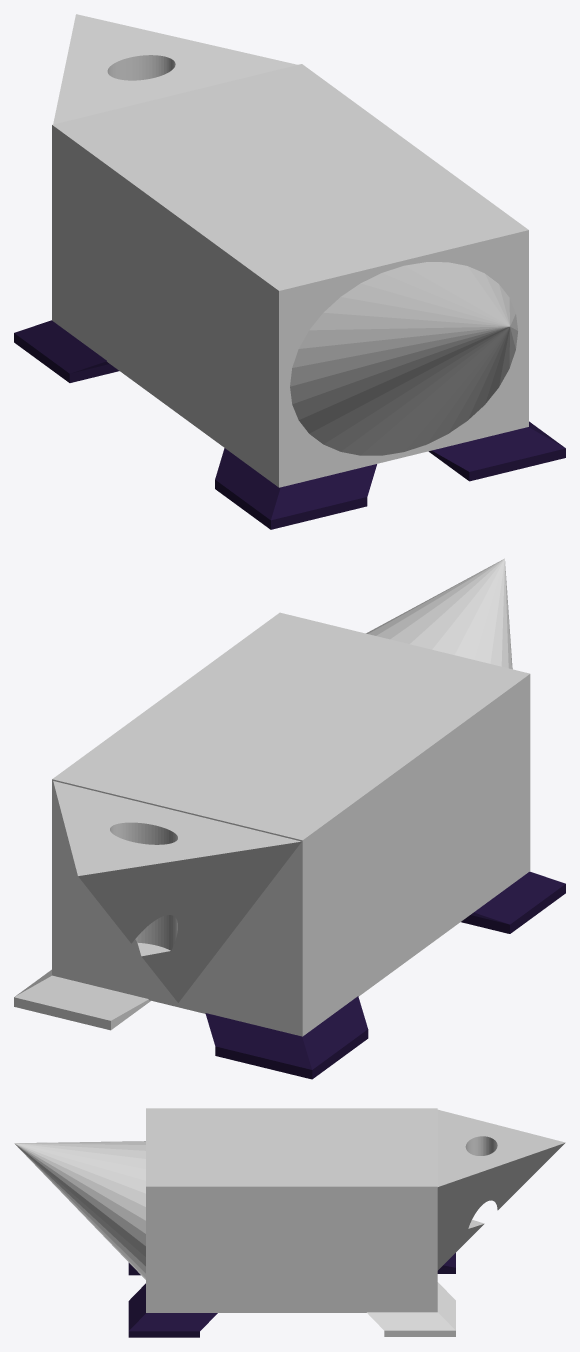
The model's file is Anvil Proto 1.fbx.
3 views of the same model, one above another, from view 1: azimuth 30°, elevation 25°; view 2: azimuth 150°, elevation 25°; view 3: azimuth 270°, elevation 25° (orthographic). The views are drawn at different scales.
Visible parts, largest first — view 1: Cone; view 2: Cone; view 3: Cone.
Boxes of the visible parts, x1,y1,x2,y2 form: Cone: [14, 14, 565, 529]; Cone: [14, 558, 565, 1079]; Cone: [14, 1108, 565, 1337].
Size of the model in its own units: 352 by 262 by 881.
